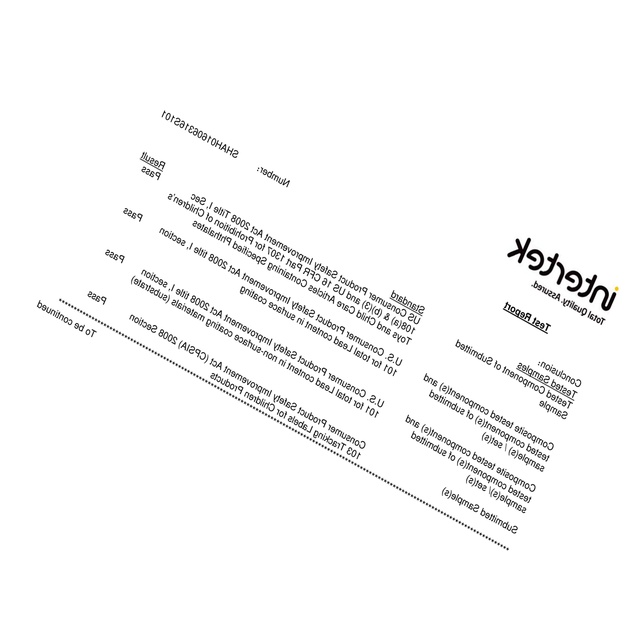intertek: (506, 235, 620, 315)
